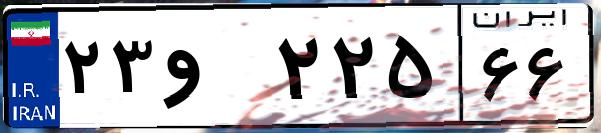2: (270, 28, 330, 110), (330, 28, 385, 110), (57, 26, 110, 100)
3: (110, 28, 158, 98)
5: (385, 28, 445, 110)
6: (475, 38, 525, 113), (525, 38, 570, 115)
و: (158, 20, 270, 120)
